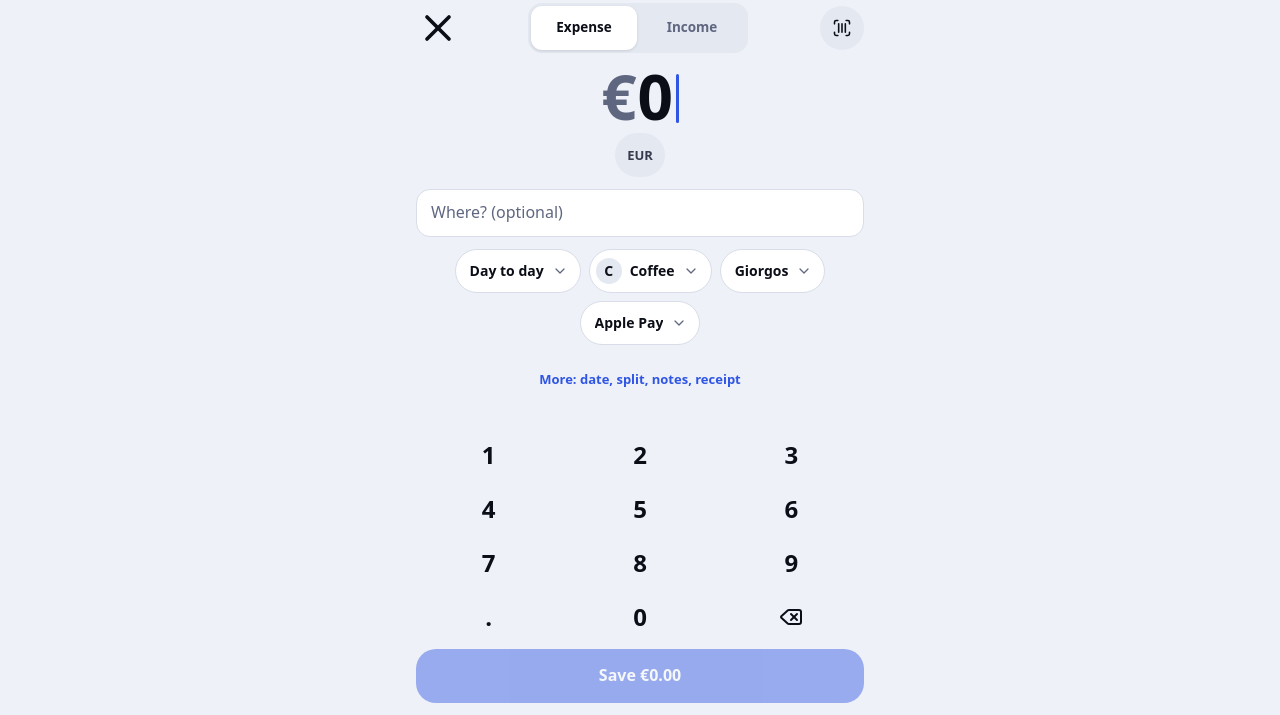
it: no total: the amount stays empty with "Couldn't find the total"
Expected: the button with aria-label "Bucket: Day to day. Change" is shown, [455,249,581,293]
Click the button named "Scan".
click(842, 28)  # box [820,6,864,50]
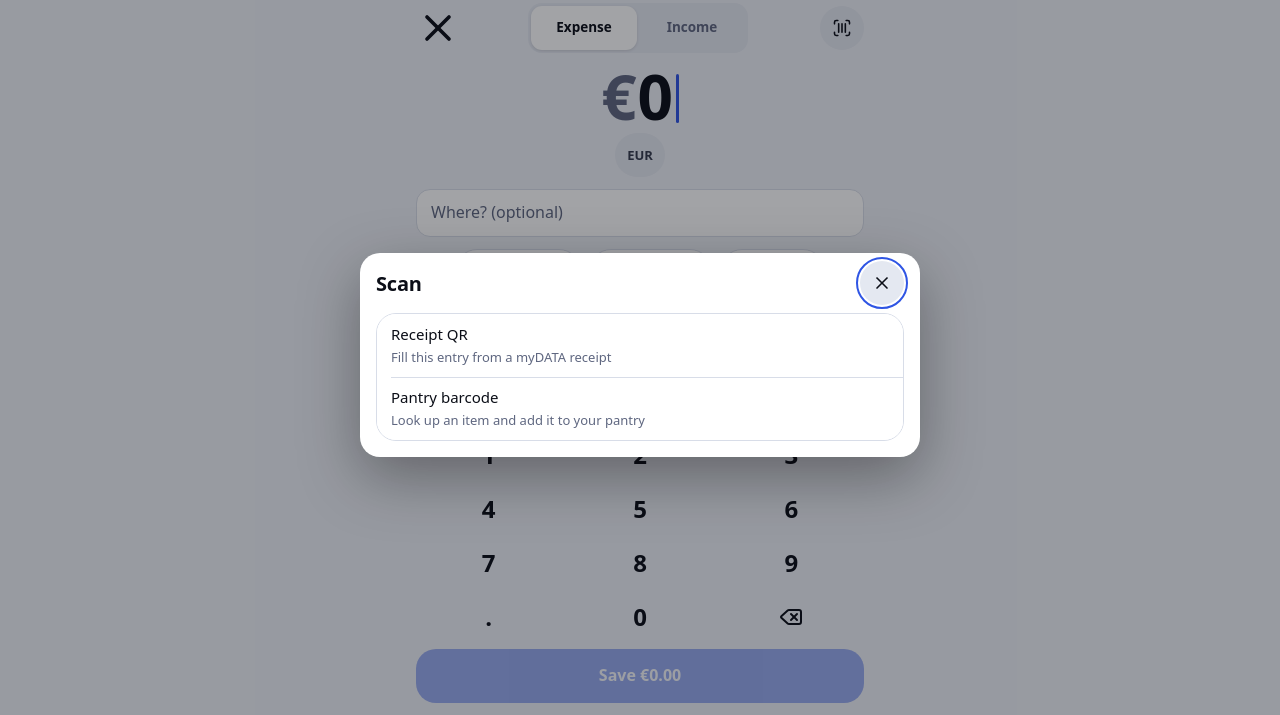
Click the button "Receipt QR Fill this entry from a myDATA receipt".
click(429, 334)  # box [377,314,903,377]
(page scrolled)
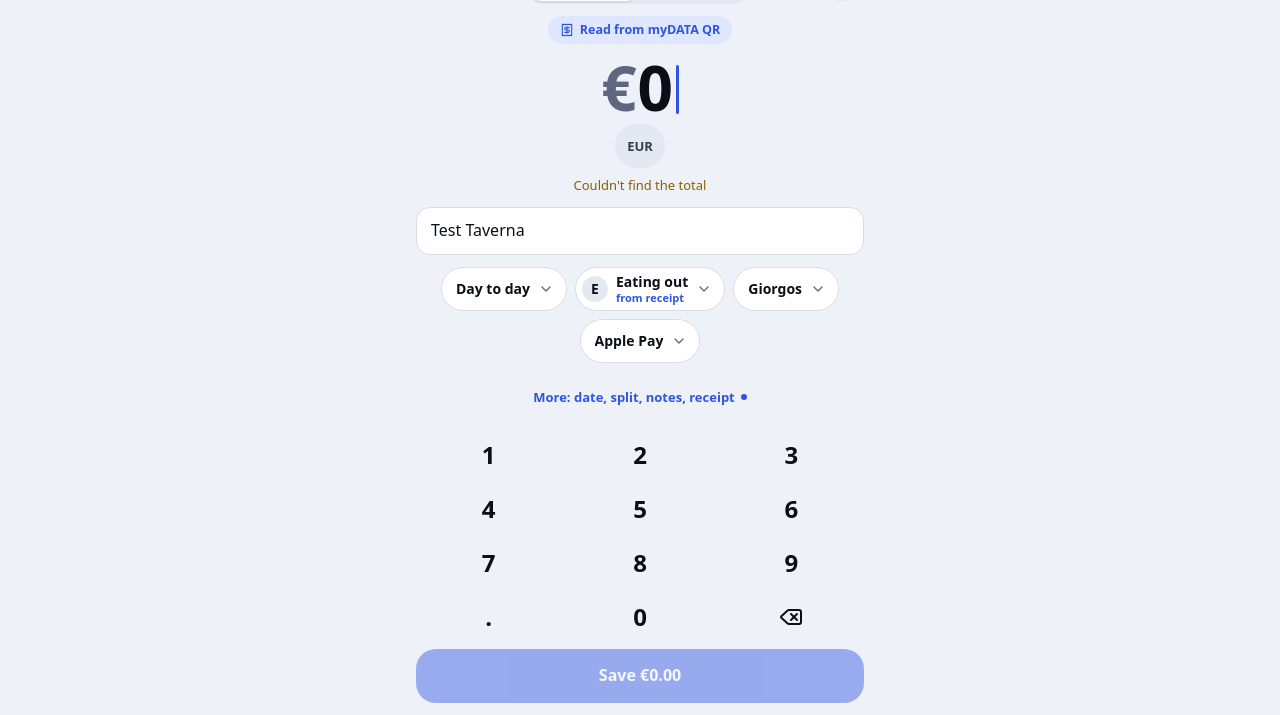
Expected: the button "Save €0.00" is disabled, [416,649,864,703]
Expected: the text "Read from myDATA QR" is shown, [548,16,732,44]
Expected: the text "Couldn't find the total" is shown, [574,176,706,194]
